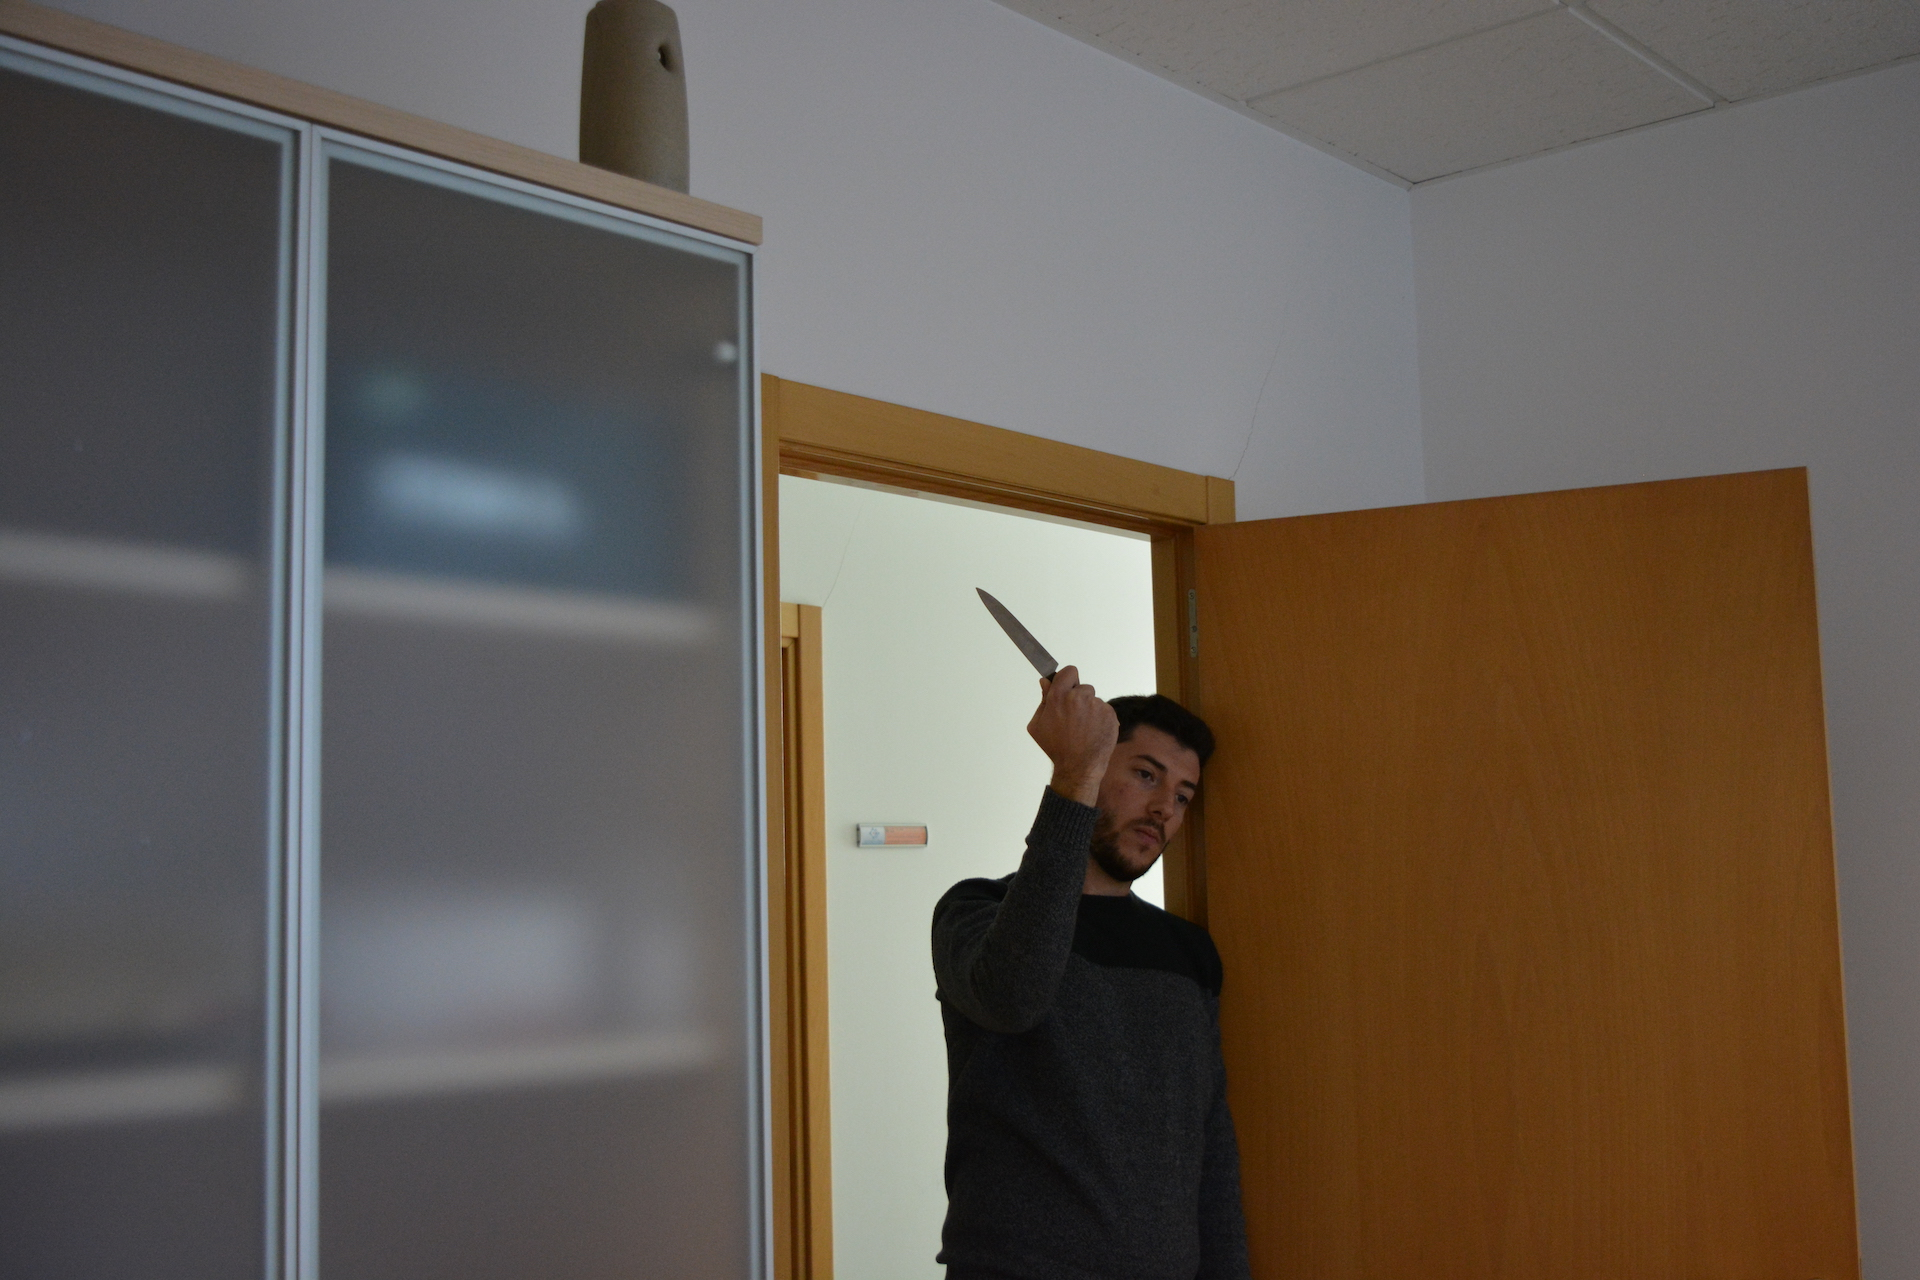knife: (969, 580, 1073, 696)
